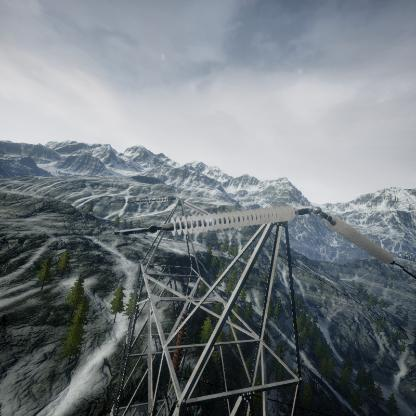insulator: (156, 201, 299, 240), (323, 210, 396, 266), (170, 312, 190, 375)
